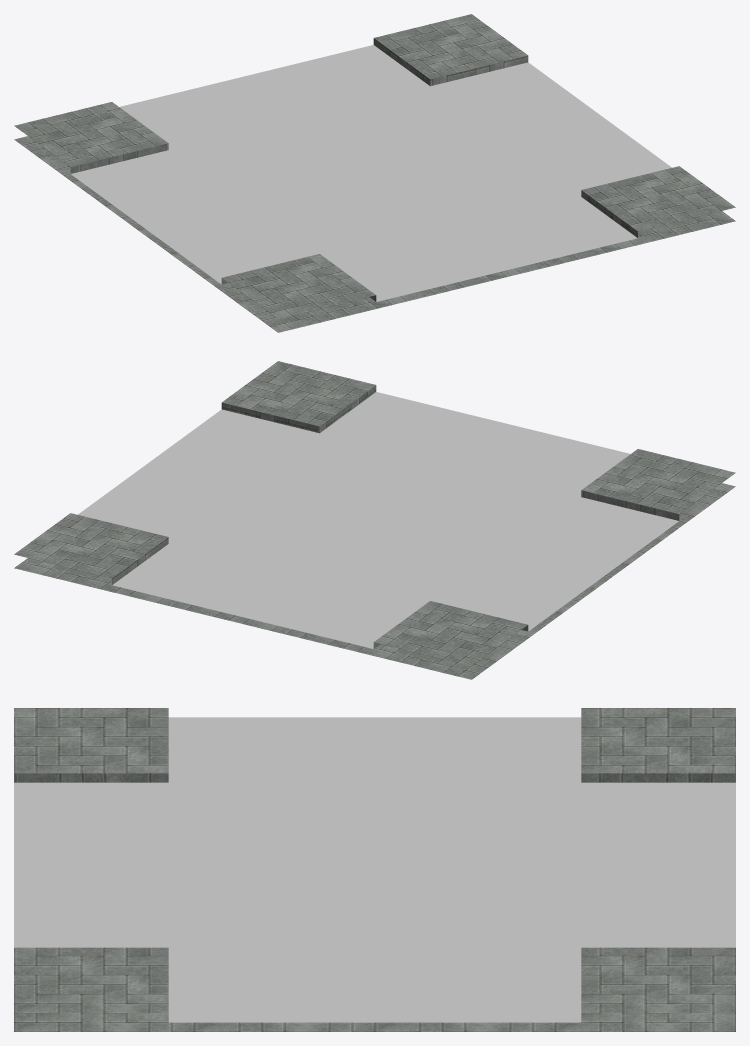
File: Intersection.fbx
The picture shows the model from 3 angles, top to bottom: view 1: azimuth 30°, elevation 25°; view 2: azimuth 150°, elevation 25°; view 3: azimuth 270°, elevation 25°; orthographic projection. The views are drawn at different scales.
Visible parts, largest first — view 1: Plane; view 2: Plane; view 3: Plane.
Part boxes in pixels (x1,y1,x2,y2): Plane: (14, 14, 735, 332); Plane: (14, 361, 735, 679); Plane: (14, 708, 735, 1031).
Bounding box in the file's own units: 1400 × 40 × 1400.
